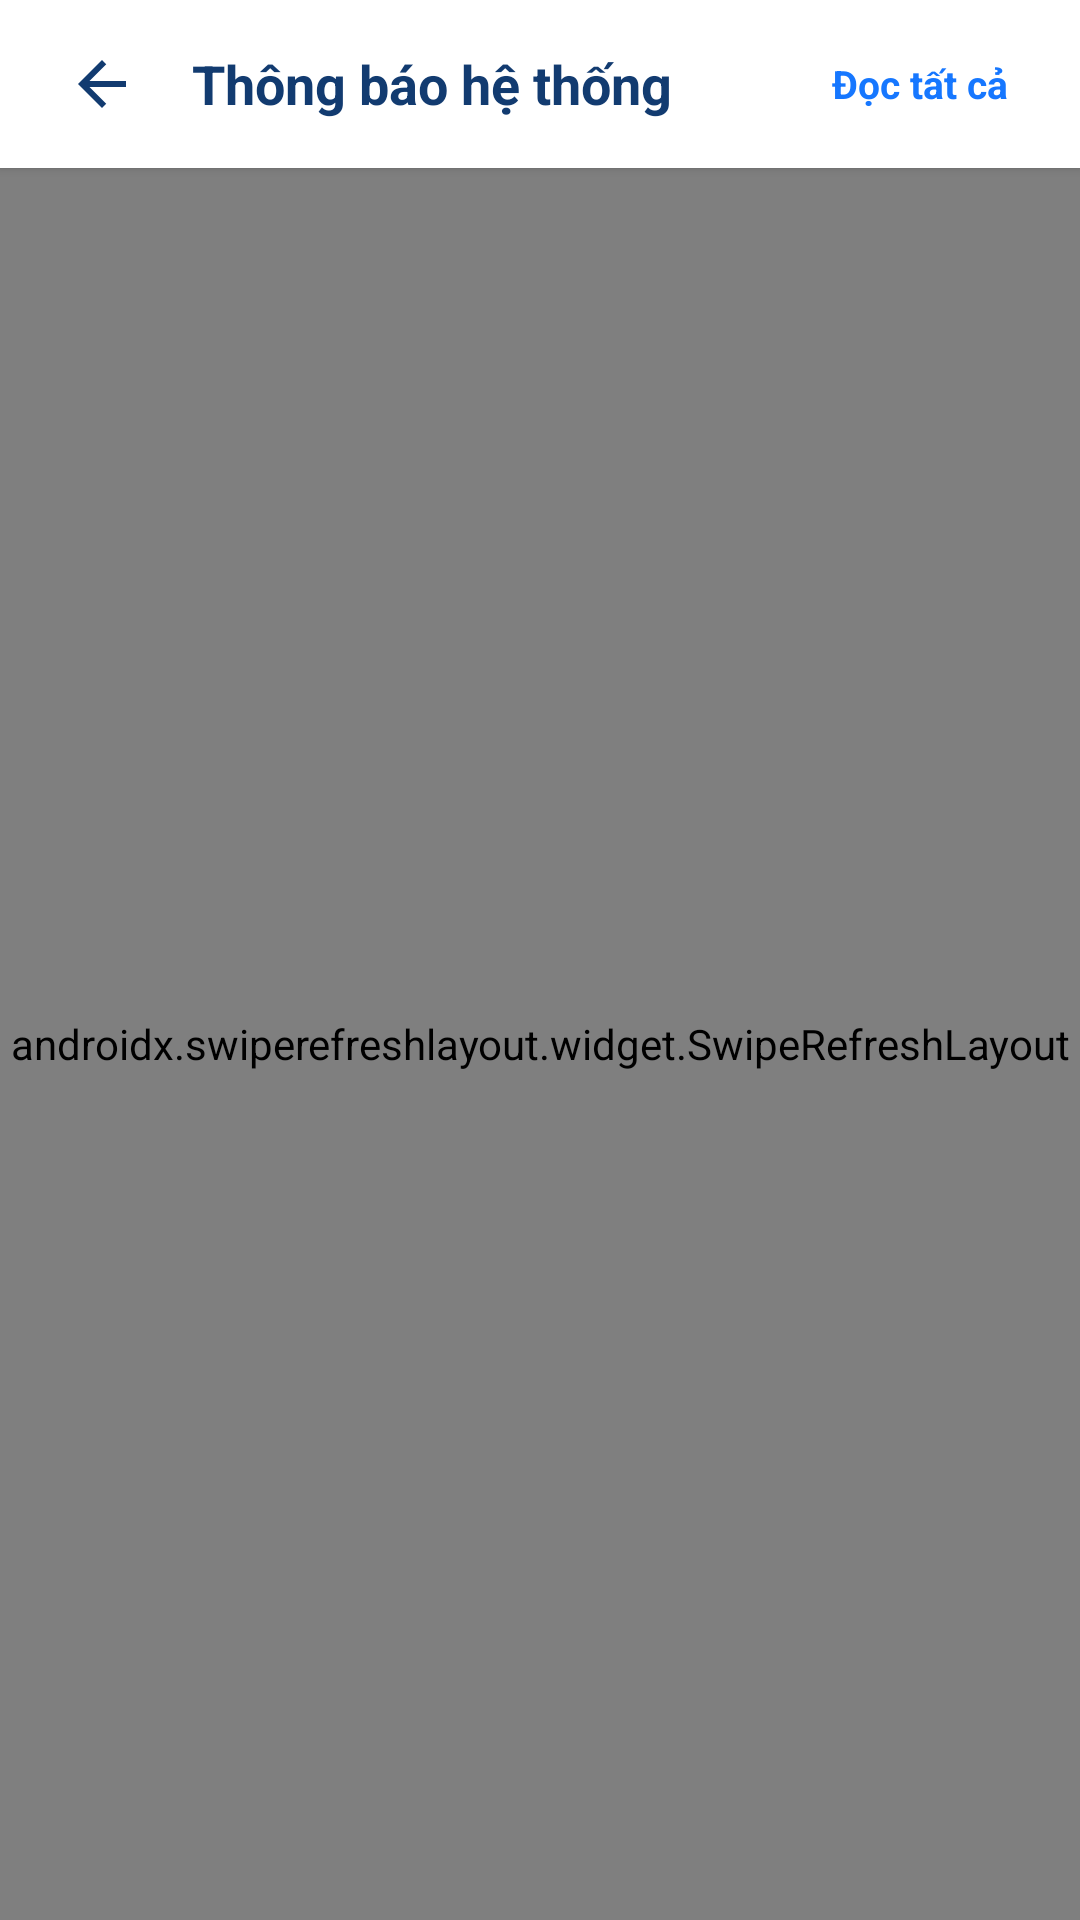

Where to tap for icons on this 1080px x 1920px app screen, as [x,y]:
Quay lại: [102,84]
